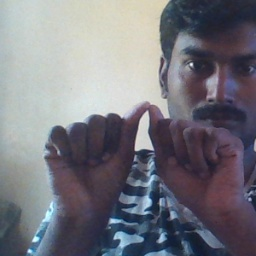A: (62, 99, 223, 202)
